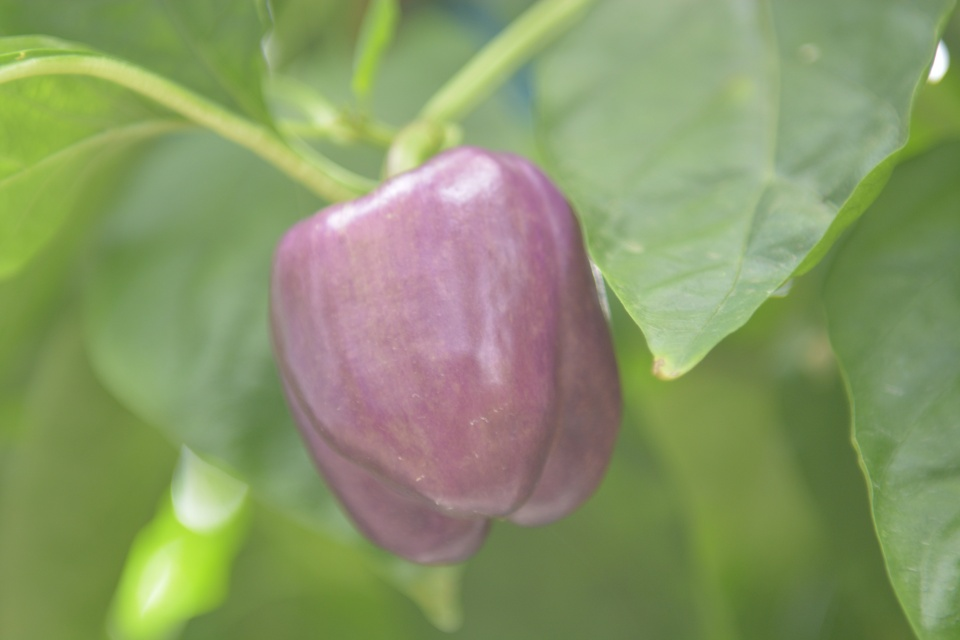fruit: (263, 139, 632, 575)
